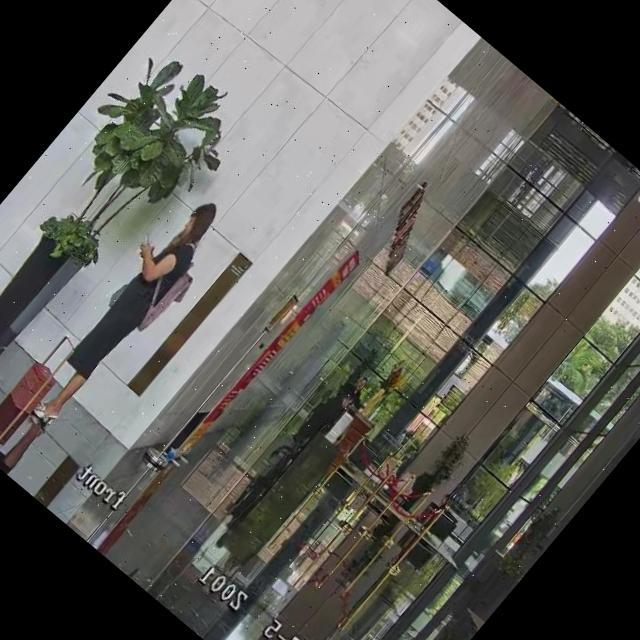person: (10, 185, 232, 435), (295, 382, 357, 449), (338, 370, 377, 410), (432, 492, 453, 514)
